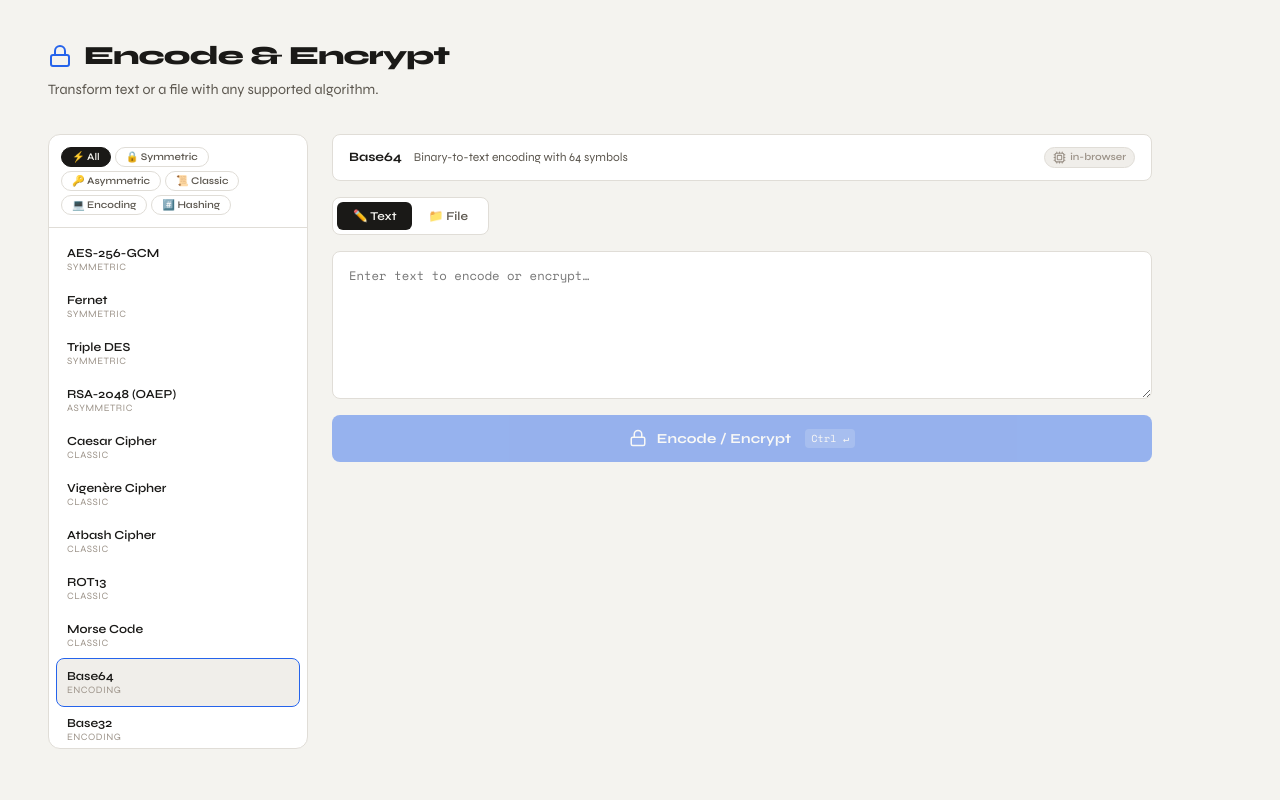
Scenario: EncoderDecoder › encodes in the browser and hands off to the decoder
Type "Hi 👋" into the text box labelled "text to encode" at (742, 325), box [332, 251, 1152, 399]
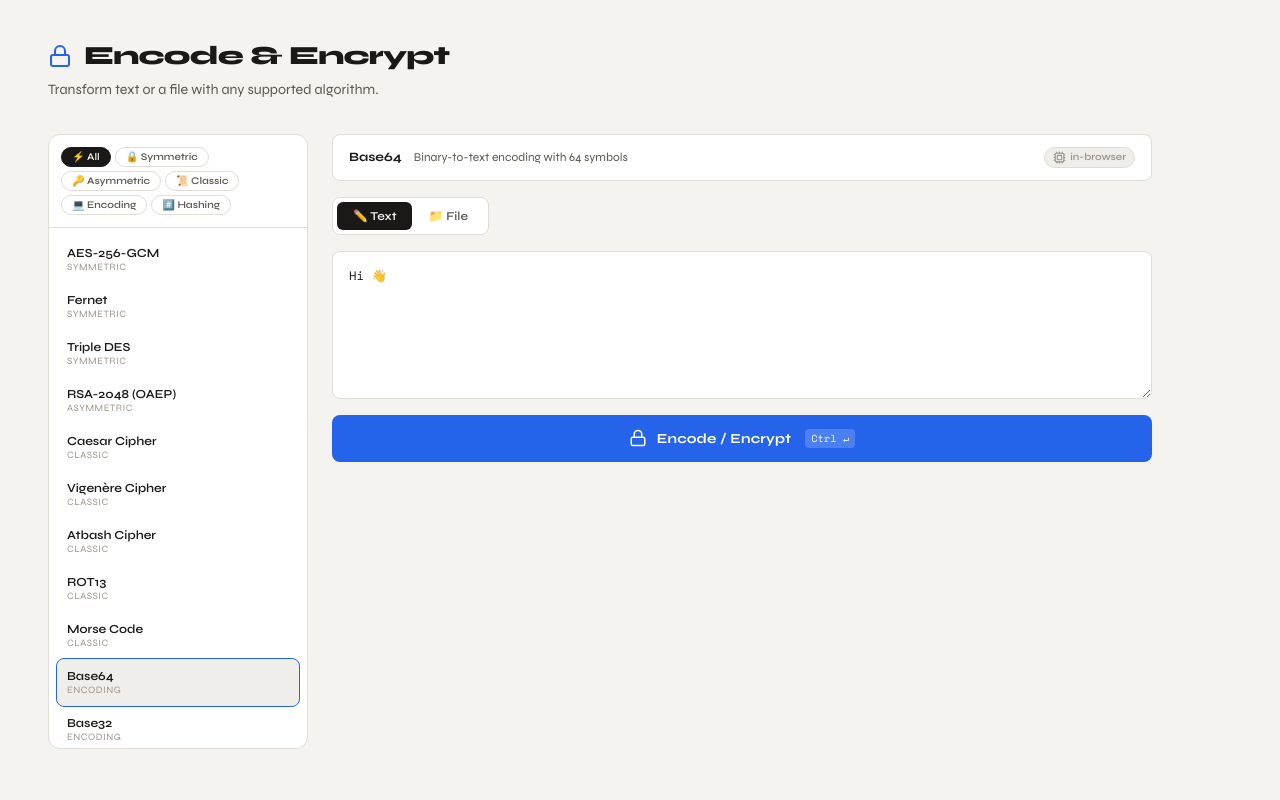
Click the button "Encode / Encrypt Ctrl ↵" at (742, 438), box [332, 415, 1152, 462]
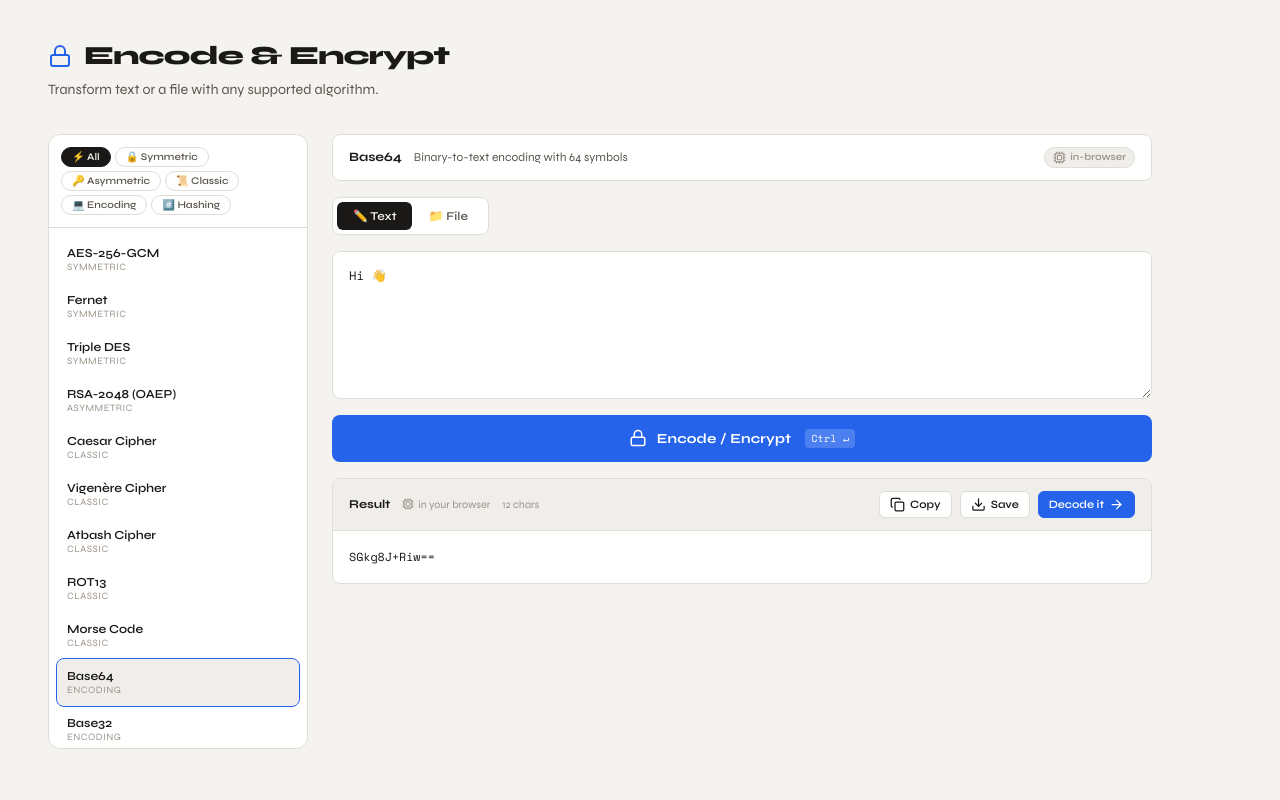
Expected: the text "SGkg8J+Riw==" is shown, [349, 548, 435, 565]
Expected: the text "in your browser" is shown, [402, 498, 490, 511]
Click the button "Decode it" at (1086, 504), box [1038, 491, 1135, 518]
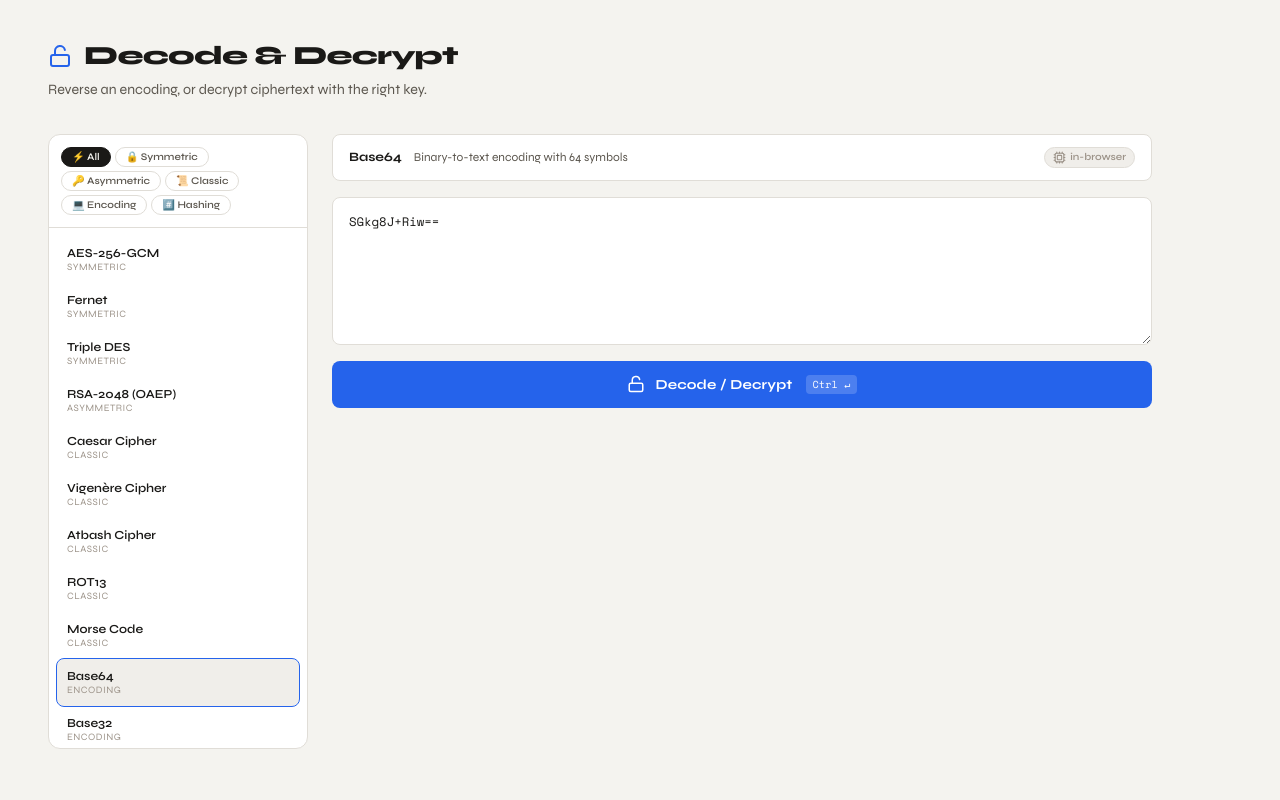
Expected: the text box named "Text to decode" holds "SGkg8J+Riw==", [332, 197, 1152, 345]
Click the button "Decode / Decrypt Ctrl ↵" at (742, 384), box [332, 361, 1152, 408]
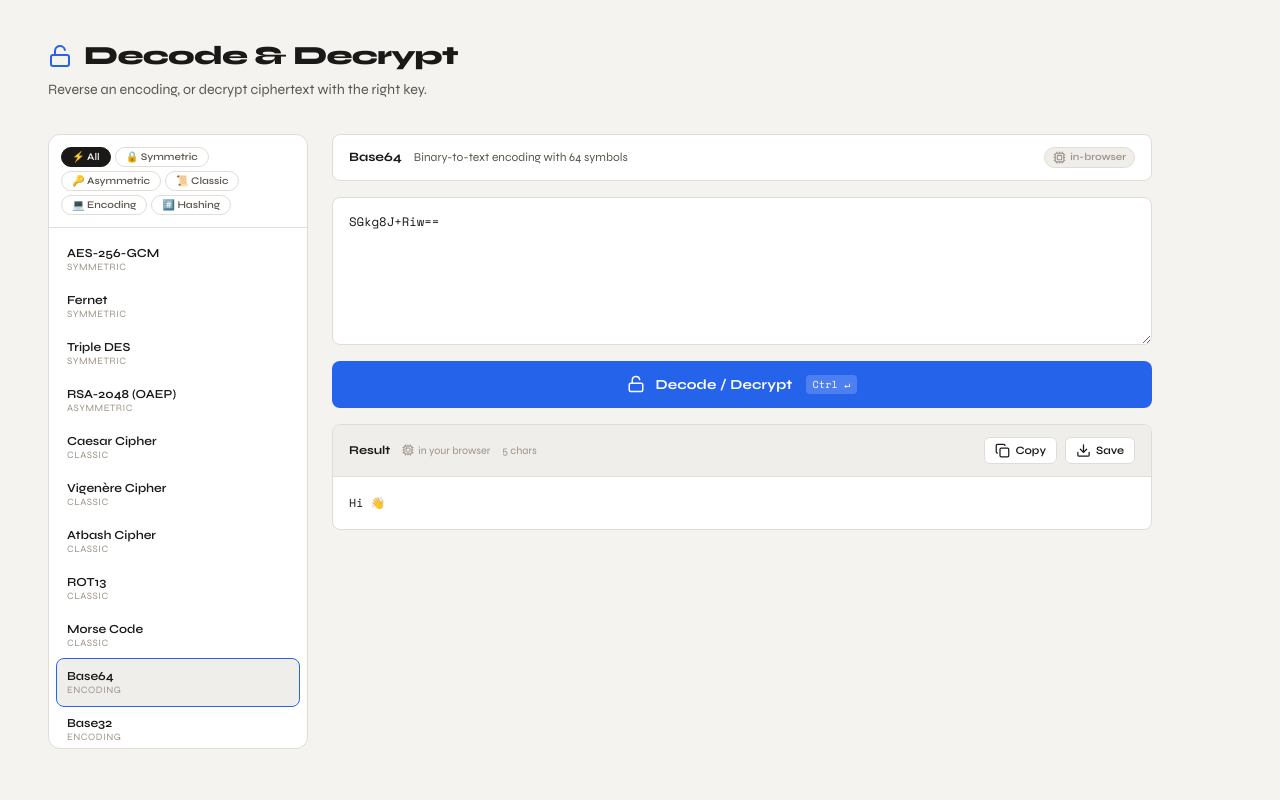
Expected: the text "Hi 👋" is shown, [349, 494, 385, 511]
